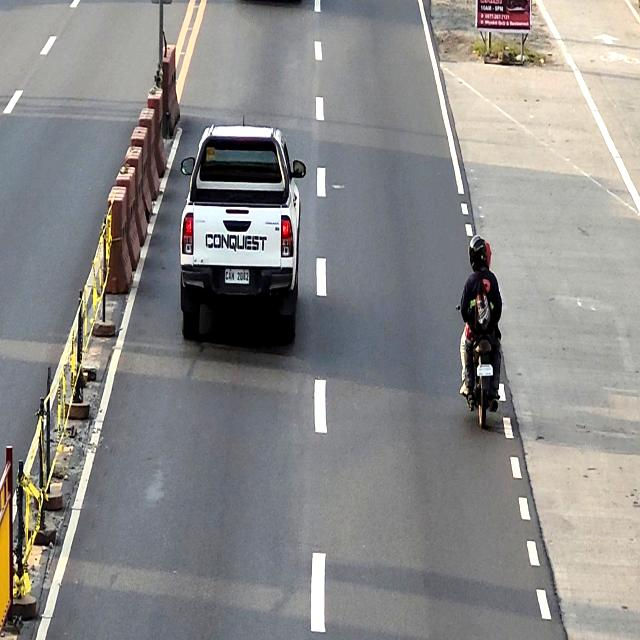Car: (178, 125, 306, 346)
License-Plate: (224, 268, 250, 285), (476, 364, 493, 376)
Motorcycle: (458, 297, 502, 428)
